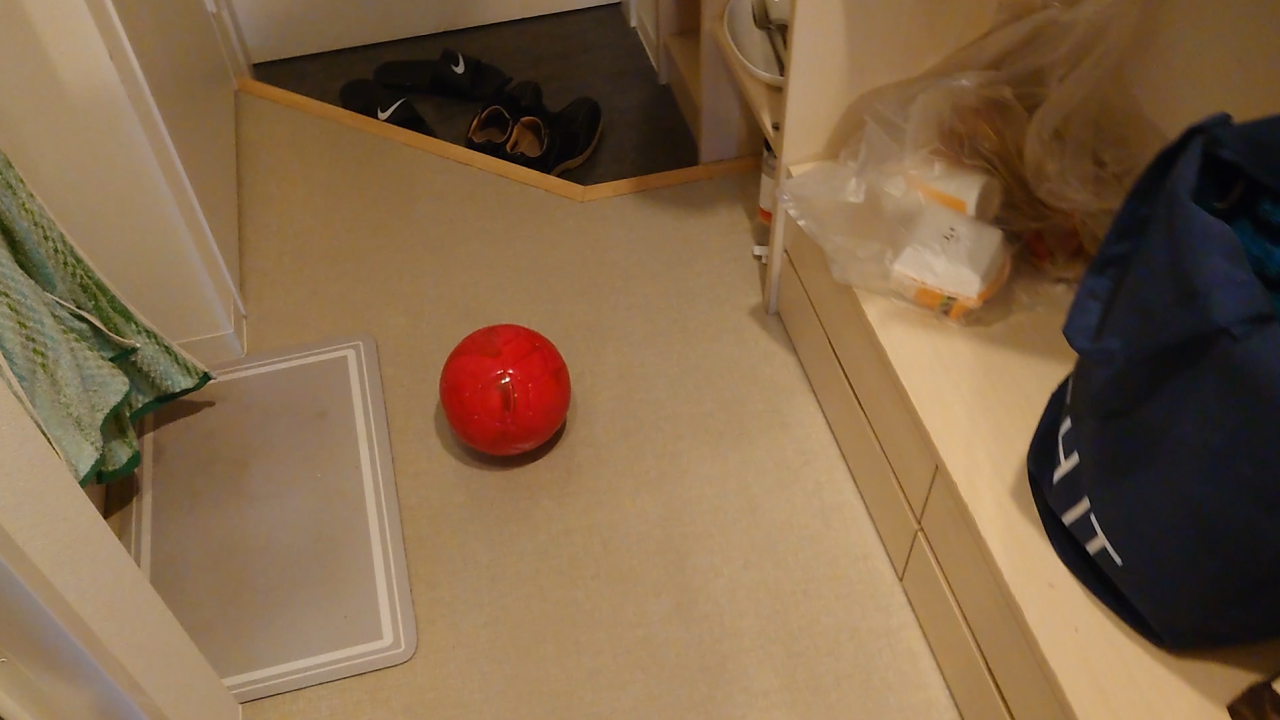red: (438, 325, 572, 457)
